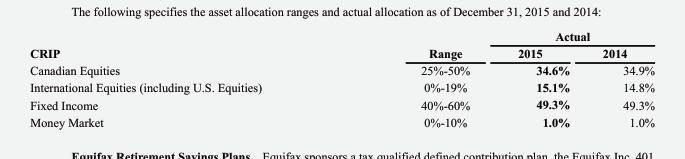table: (29, 28, 654, 128)
table column: (29, 28, 340, 128), (340, 28, 493, 128), (493, 28, 585, 128), (585, 28, 654, 128)
table column header: (29, 28, 654, 61)
table row: (29, 44, 654, 61), (29, 61, 654, 78), (29, 78, 654, 95), (29, 95, 654, 112), (29, 28, 654, 44), (29, 112, 654, 128)
table spanning cell: (29, 28, 340, 61), (340, 28, 493, 61), (493, 28, 654, 44)
